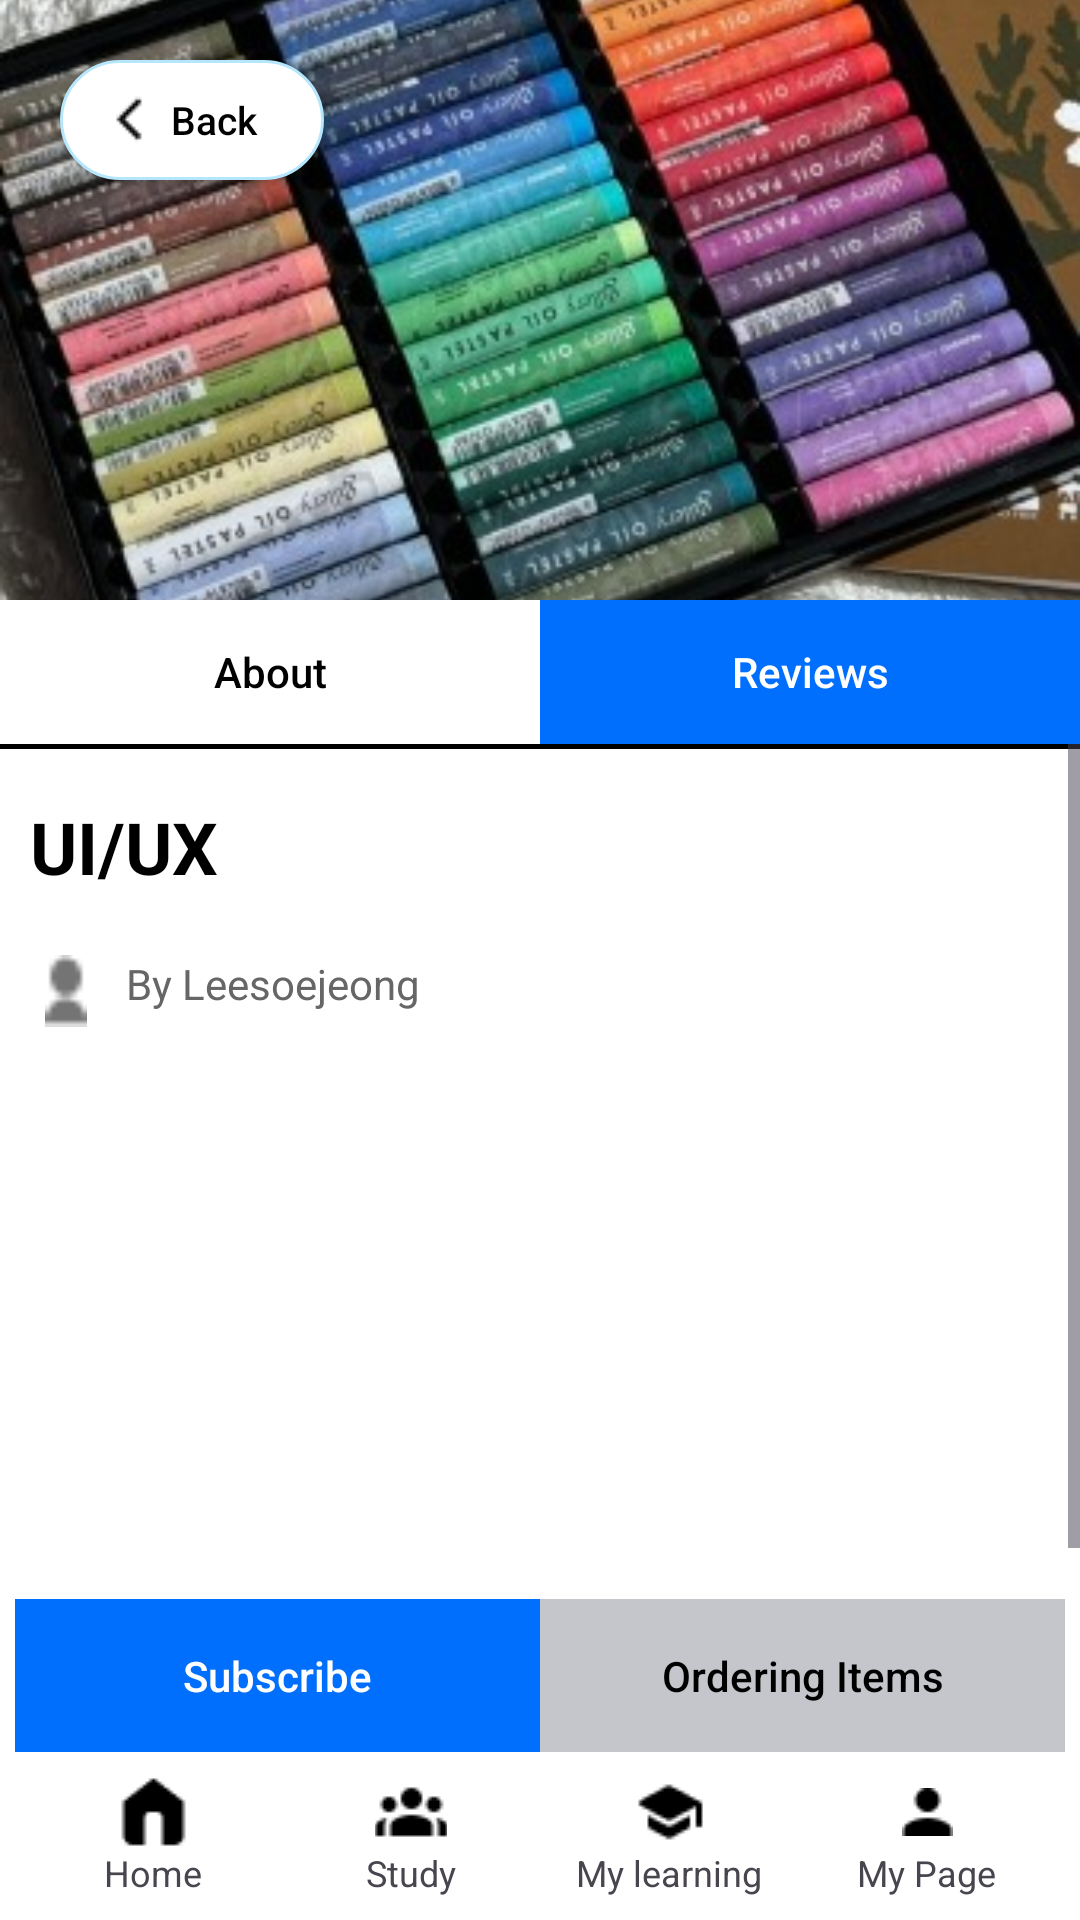

Where icons sit on this 1080 × 1920 app screen, as (x1=x1, y1=y1, x2=x2, y2=y2):
lecturer: (x1=45, y1=955, x2=87, y2=1027)
